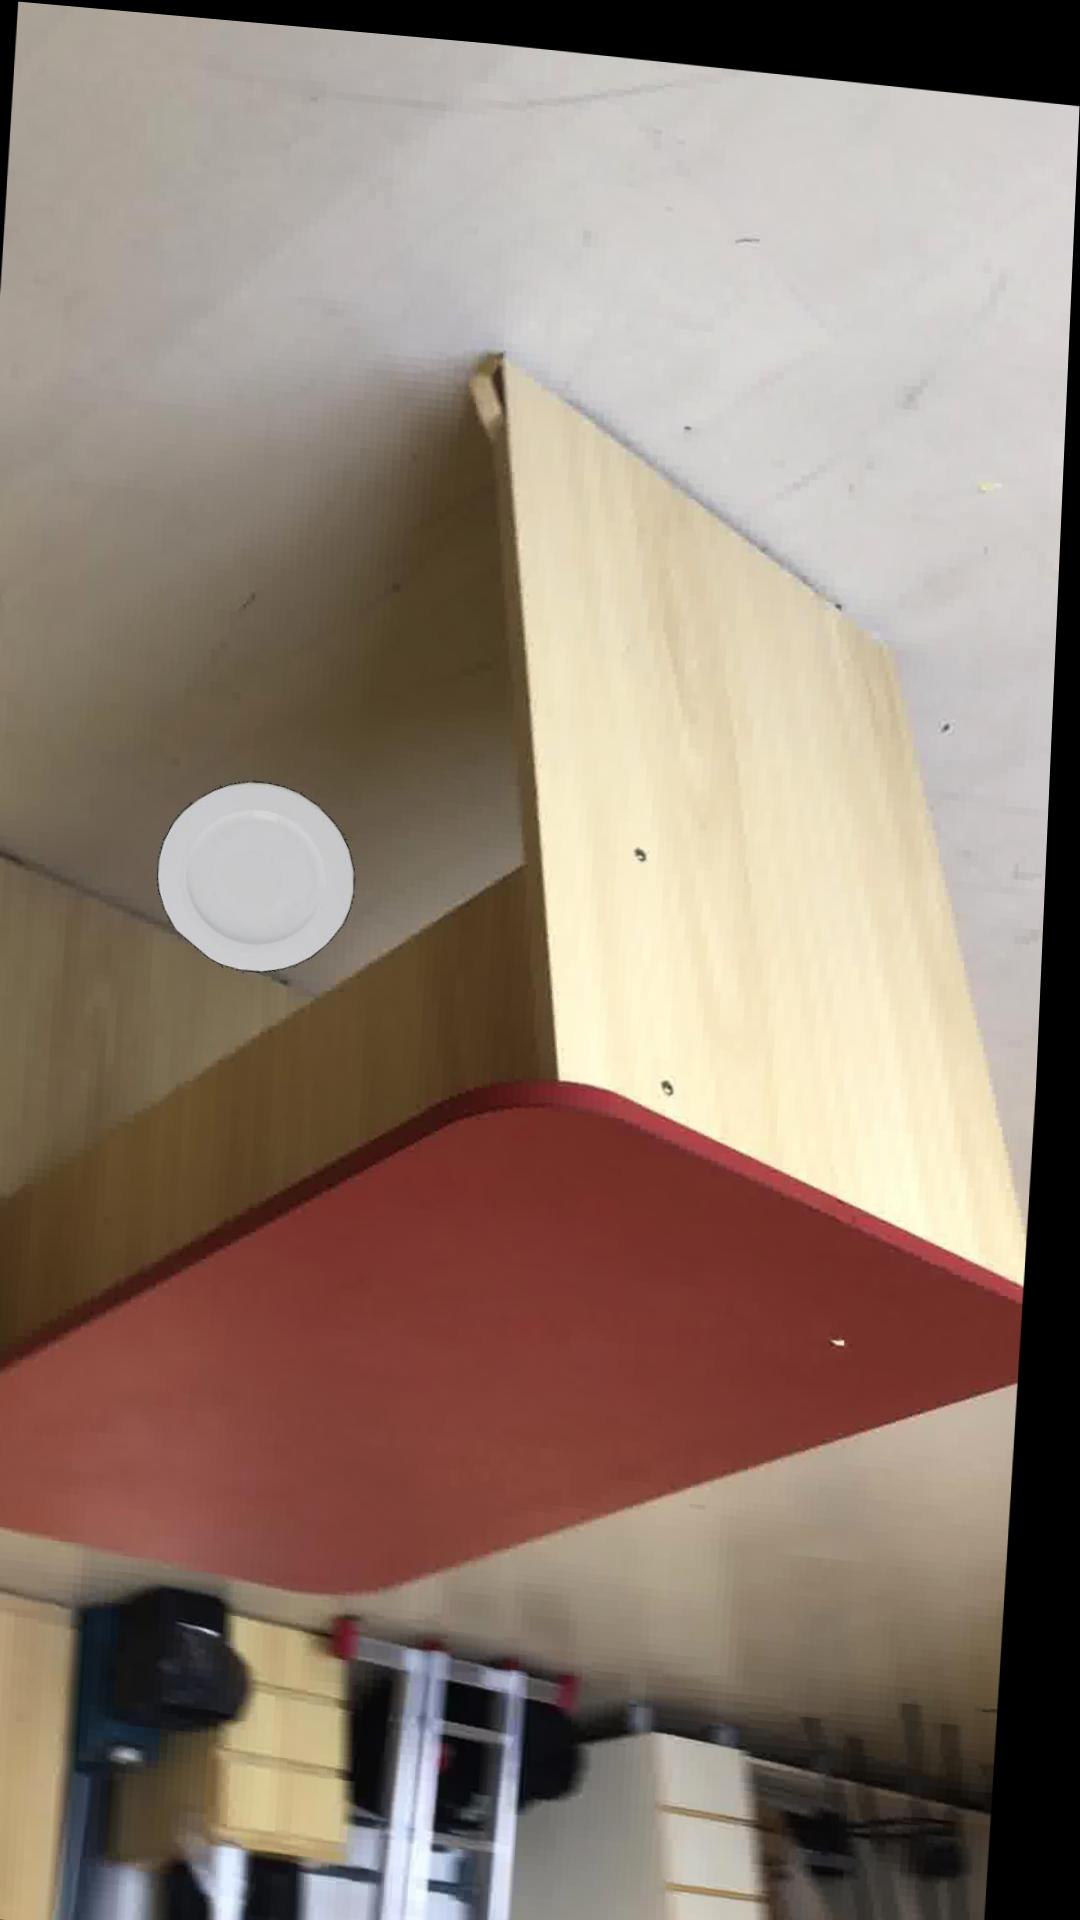plate: (165, 777, 363, 968)
